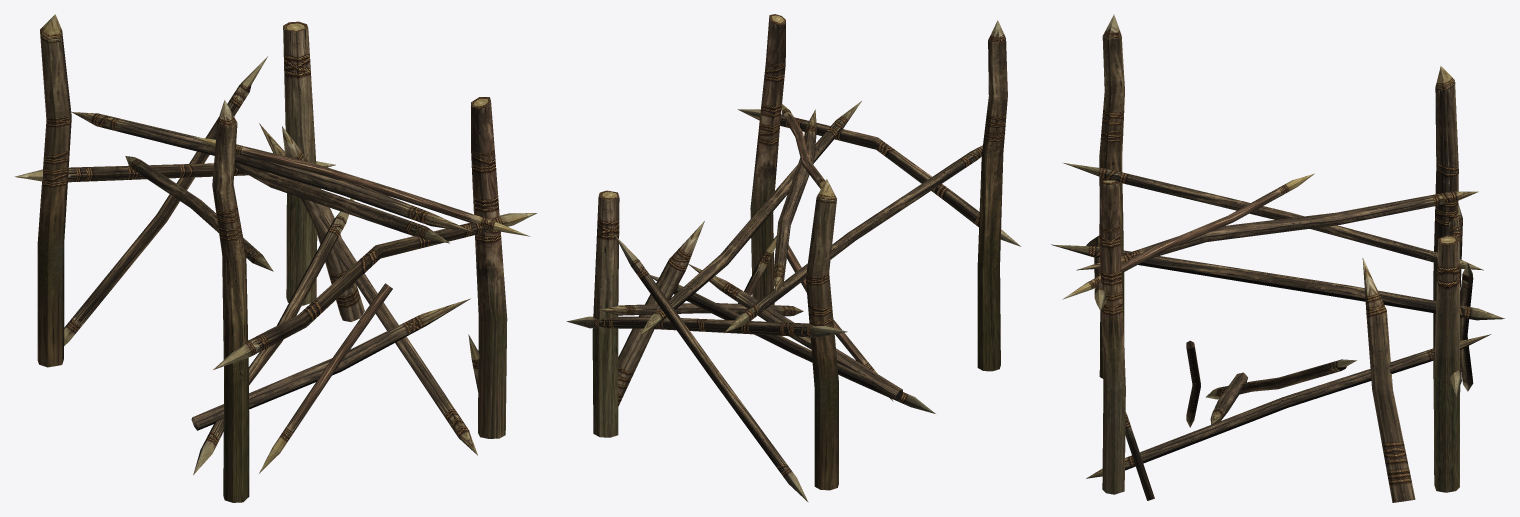
File: gaint_buildb_04_d.fbx
3 views of the same model, side by side, from view 1: azimuth 30°, elevation 25°; view 2: azimuth 150°, elevation 25°; view 3: azimuth 270°, elevation 25° (orthographic). The views are drawn at different scales.
Parts seen in each view (by area): view 1: Object05; view 2: Object05; view 3: Object05.
Boxes of the visible parts, left/top/right/bottom form: Object05: left=14, top=14, right=537, bottom=502; Object05: left=566, top=14, right=1021, bottom=502; Object05: left=1051, top=14, right=1504, bottom=502.
Bounding box in the file's own units: 7.22 × 9 × 9.76.
